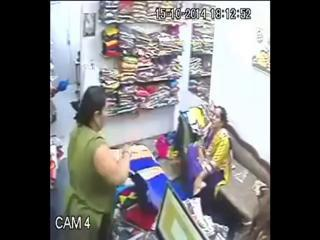Normal: (63, 86, 132, 240), (137, 182, 209, 240)
